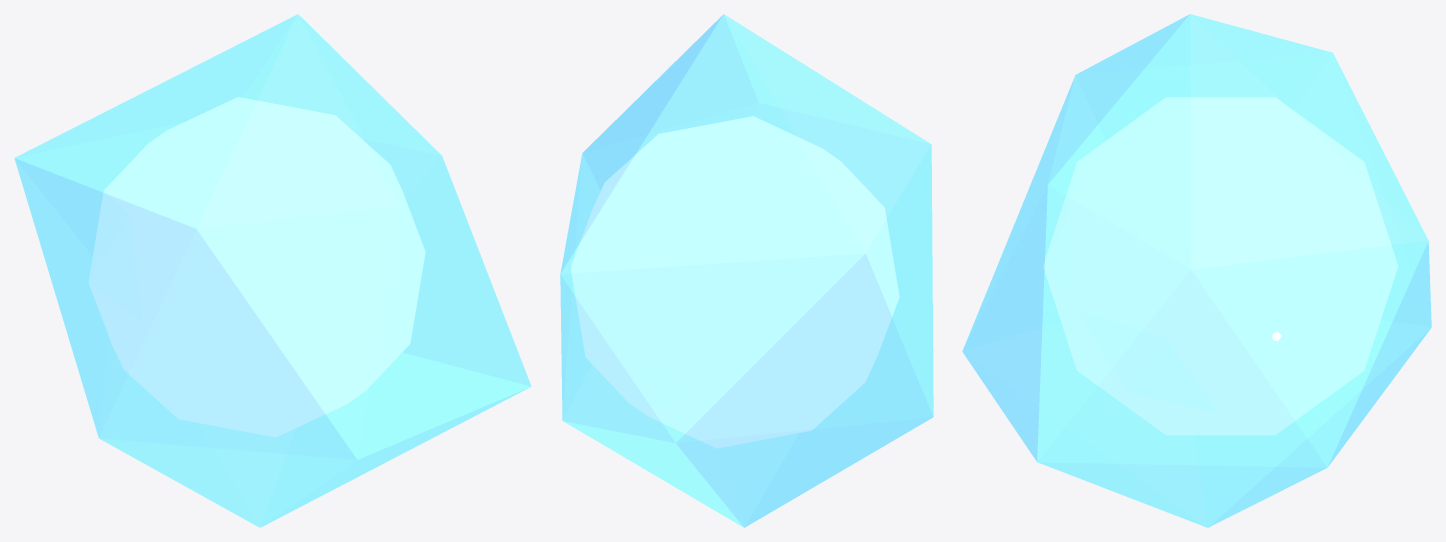
Rendered from lightning-orb.glb.
3 renders of one model, left to right at view 1: azimuth 30°, elevation 25°; view 2: azimuth 150°, elevation 25°; view 3: azimuth 270°, elevation 25°, orthographic. The views are drawn at different scales.
Visible parts, largest first — view 1: lightning-orb; view 2: lightning-orb; view 3: lightning-orb.
Boxes of the visible parts, x1,y1,x2,y2 form: lightning-orb: (14, 14, 531, 527); lightning-orb: (560, 14, 933, 527); lightning-orb: (962, 14, 1431, 527).
Size of the model in its own units: 0.1753 by 0.2299 by 0.185.
